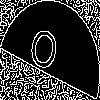O: (25, 25, 61, 82)
